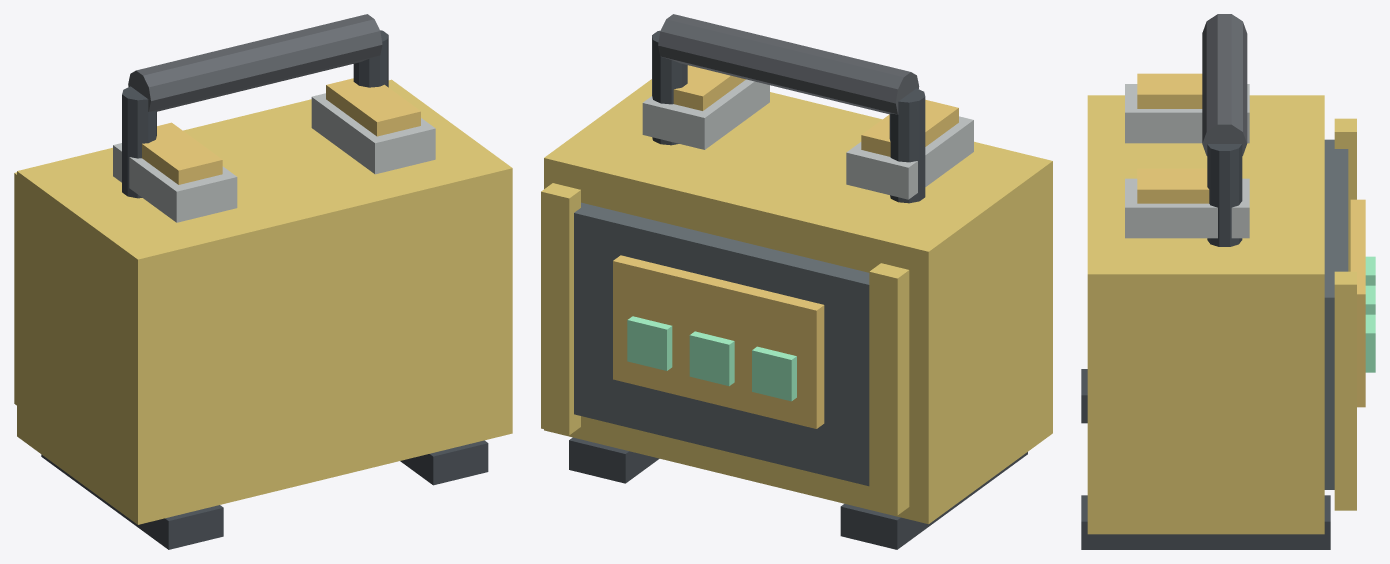
File: battery.fbx
3 renders of one model, left to right at view 1: azimuth 30°, elevation 25°; view 2: azimuth 150°, elevation 25°; view 3: azimuth 270°, elevation 25°, orthographic. The views are drawn at different scales.
Parts seen in each view (by area): view 1: battery; view 2: battery; view 3: battery.
Boxes of the visible parts, x1,y1,x2,y2 form: battery: (14,14,512,549); battery: (541,14,1052,549); battery: (1081,14,1375,549).
Size of the model in its own units: 0.34 by 0.3576 by 0.236.
